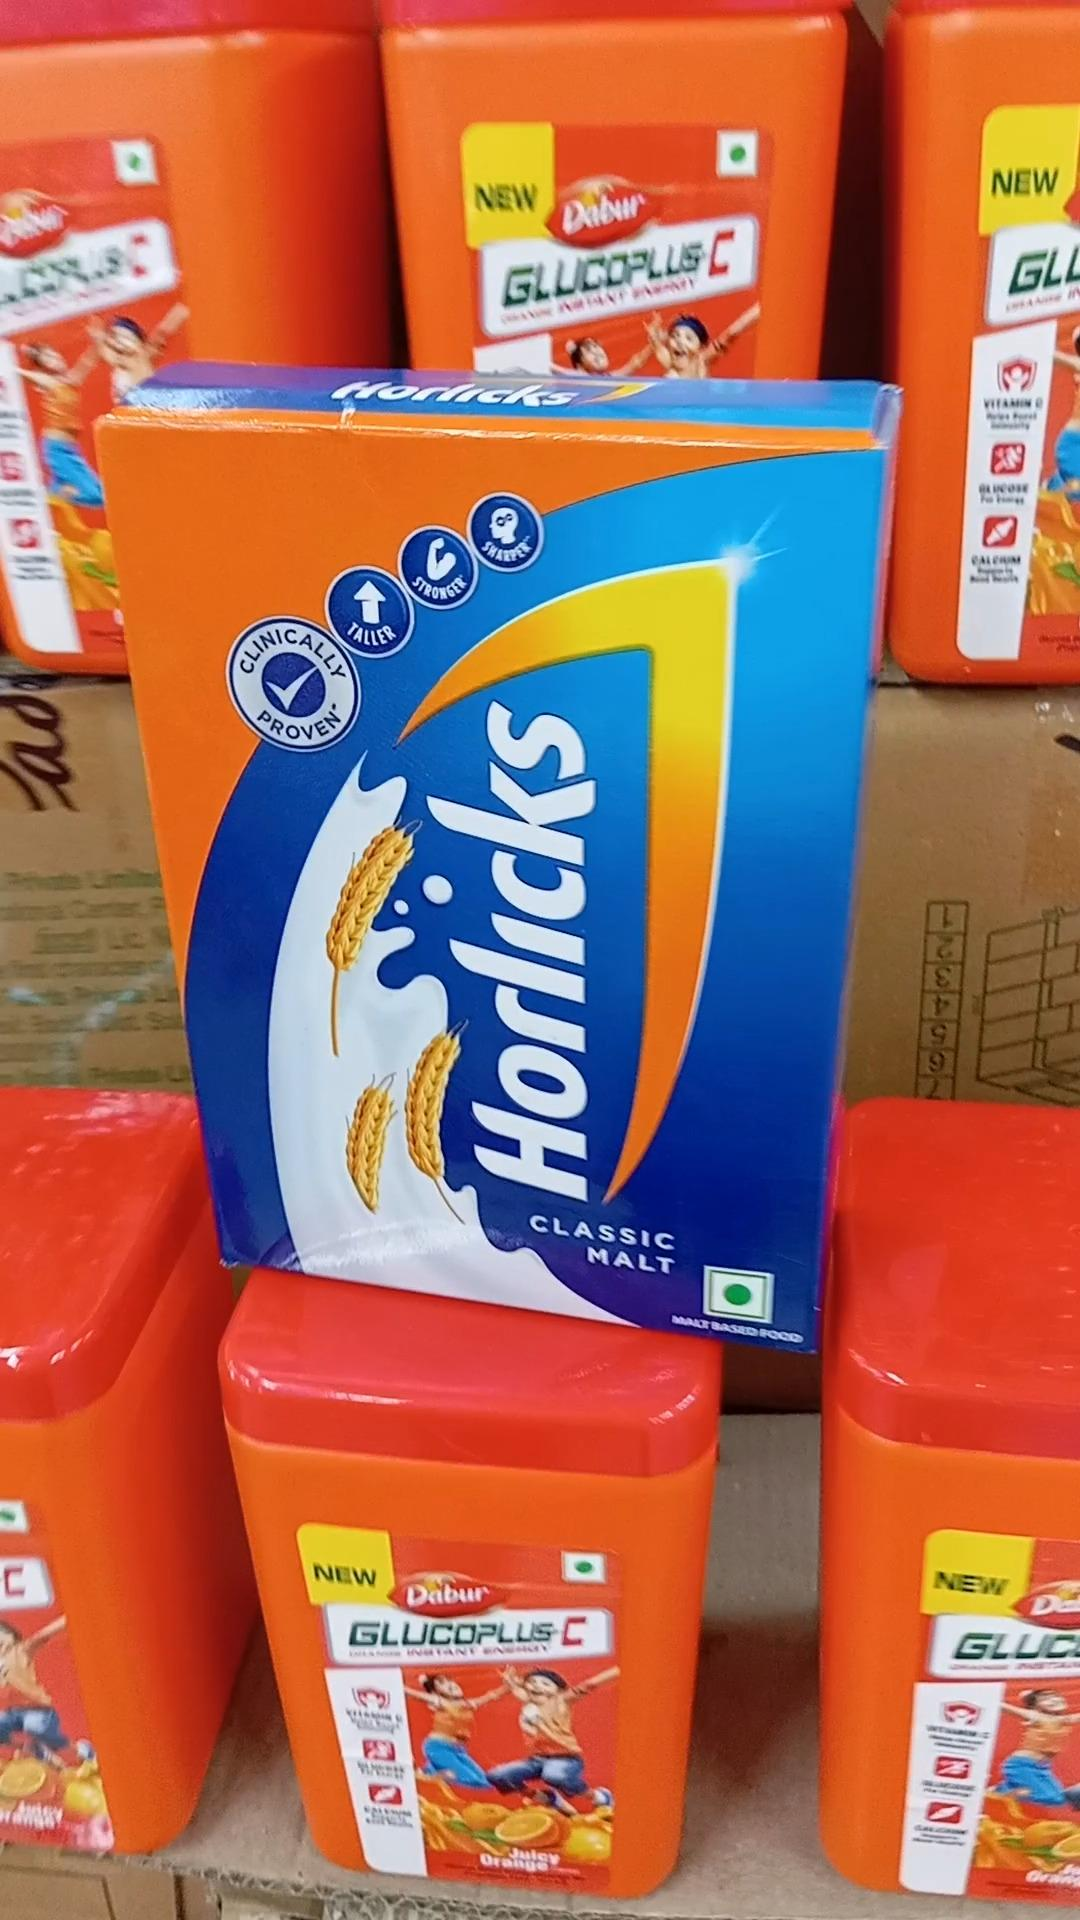HORLICK_CLASSIC_MALT_500_G_PACK: (105, 423, 893, 1348)
